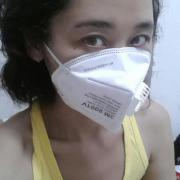face_mask: (48, 0, 155, 122)
